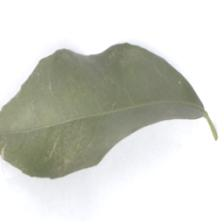healthy: (0, 43, 204, 180)
